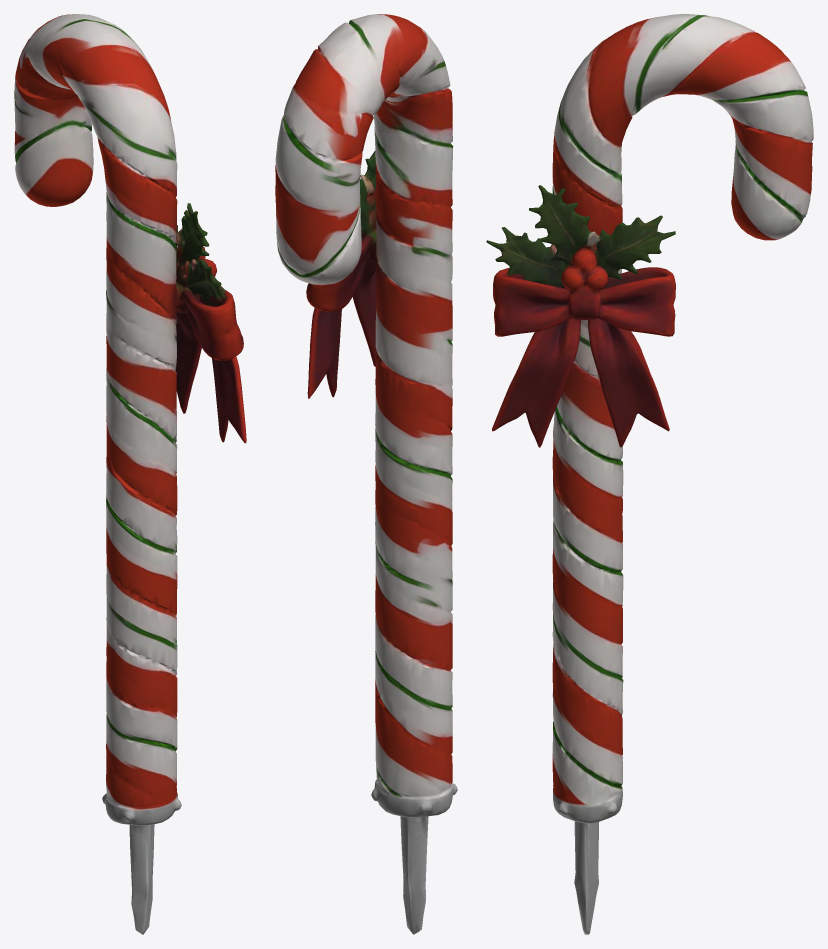
File: lt_candycane.glb
3 views of the same model, side by side, from view 1: azimuth 30°, elevation 25°; view 2: azimuth 150°, elevation 25°; view 3: azimuth 270°, elevation 25° (orthographic). The views are drawn at different scales.
Visible parts, largest first — view 1: tripo_node_be692815-39db-4585-937a-18f3c7447a00; view 2: tripo_node_be692815-39db-4585-937a-18f3c7447a00; view 3: tripo_node_be692815-39db-4585-937a-18f3c7447a00.
Part boxes in pixels (x1=…): tripo_node_be692815-39db-4585-937a-18f3c7447a00: x1=14, y1=14, x2=246, y2=934; tripo_node_be692815-39db-4585-937a-18f3c7447a00: x1=275, y1=14, x2=457, y2=934; tripo_node_be692815-39db-4585-937a-18f3c7447a00: x1=486, y1=14, x2=813, y2=934.
Bounding box in the file's own units: 0.1226 × 1 × 0.3235.
1 material, 1 textured.
